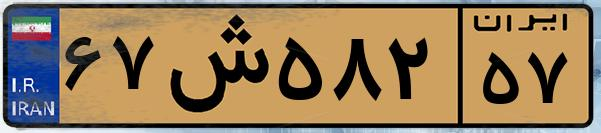2: (385, 28, 445, 110)
5: (270, 28, 330, 110), (475, 38, 525, 113)
6: (57, 26, 110, 100)
7: (525, 38, 570, 115), (110, 28, 158, 98)
8: (330, 28, 385, 110)
ش: (158, 12, 270, 120)
